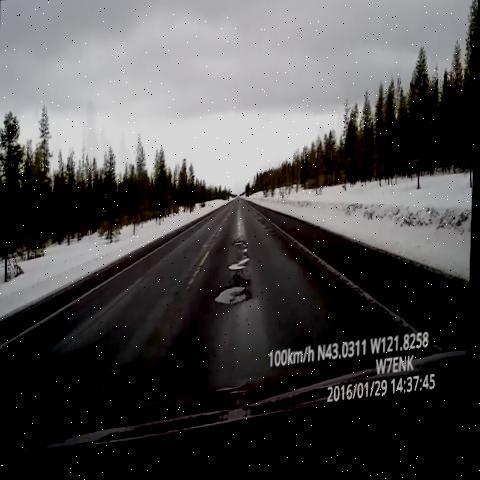pothole: (217, 280, 257, 318), (229, 242, 256, 279)
